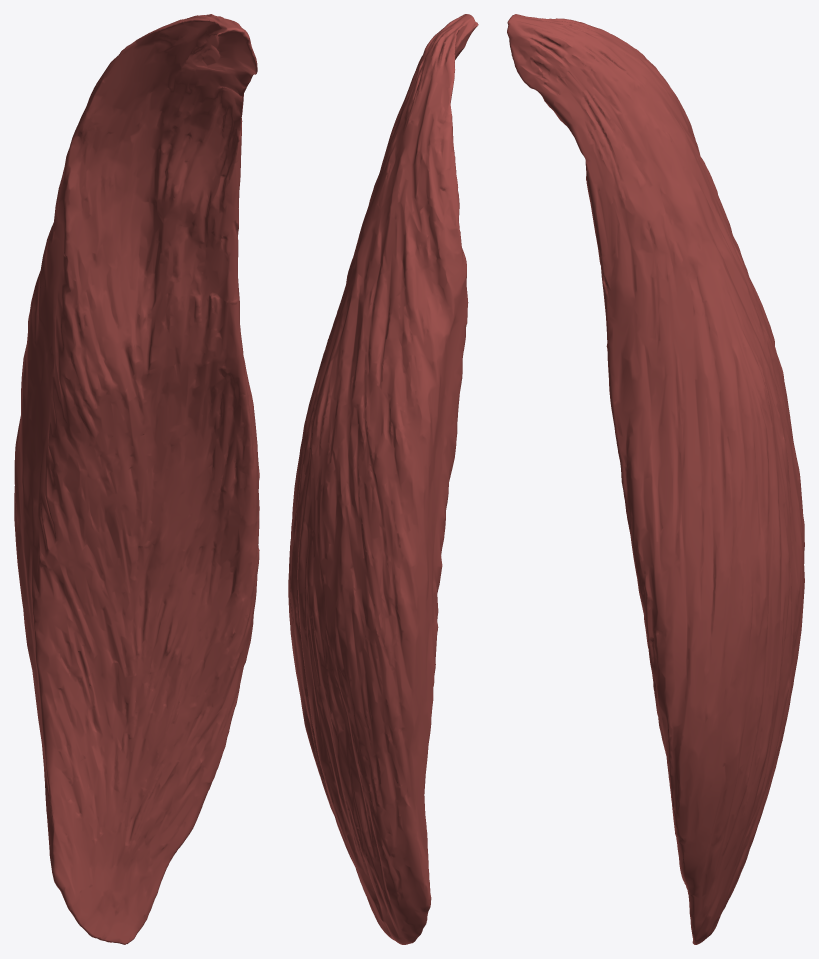
The model's file is FMA45961.glb.
The picture shows the model from 3 angles, left to right: view 1: azimuth 30°, elevation 25°; view 2: azimuth 150°, elevation 25°; view 3: azimuth 270°, elevation 25°; orthographic projection. The views are drawn at different scales.
Parts seen in each view (by area): view 1: FMA45961; view 2: FMA45961; view 3: FMA45961.
Part boxes in pixels (bbox=[...]): FMA45961: bbox=[14, 14, 259, 944]; FMA45961: bbox=[288, 14, 478, 944]; FMA45961: bbox=[507, 14, 804, 944].
Size of the model in its own units: 0.0524 by 0.2607 by 0.0753.
